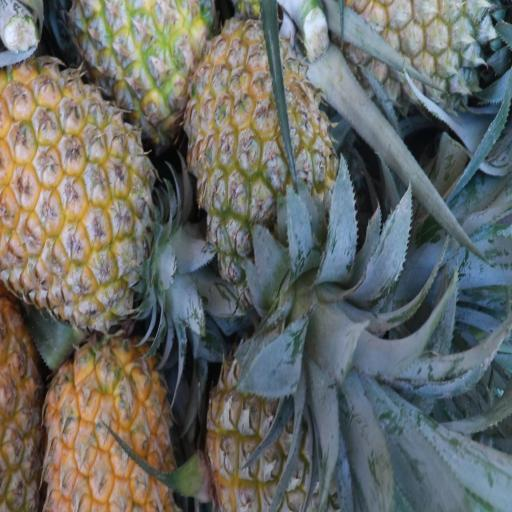------------------------------: (185, 24, 329, 261), (211, 330, 348, 512)
Pineapple - v8 v1: (0, 69, 158, 316), (38, 342, 175, 512), (79, 0, 211, 140)
